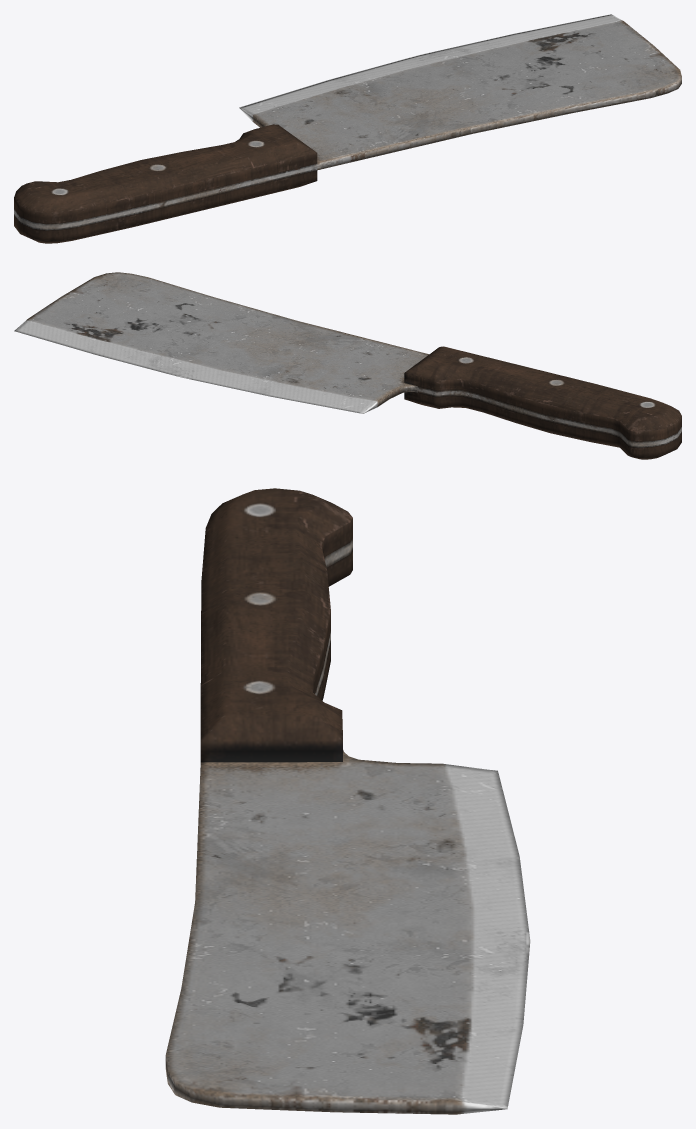
File: SM_Kitchenware03_1_LOD0.glb
3 views of the same model, one above another, from view 1: azimuth 30°, elevation 25°; view 2: azimuth 150°, elevation 25°; view 3: azimuth 270°, elevation 25° (orthographic). The views are drawn at different scales.
Parts seen in each view (by area): view 1: SM_Kitchenware03_1_LOD0; view 2: SM_Kitchenware03_1_LOD0; view 3: SM_Kitchenware03_1_LOD0.
Boxes of the visible parts, x1,y1,x2,y2 form: SM_Kitchenware03_1_LOD0: (14, 14, 681, 243); SM_Kitchenware03_1_LOD0: (14, 272, 681, 459); SM_Kitchenware03_1_LOD0: (165, 488, 530, 1114).
Bounding box in the file's own units: 0.5468 × 0.0354 × 0.1427.
Materials: 1 (1 with a texture image).
